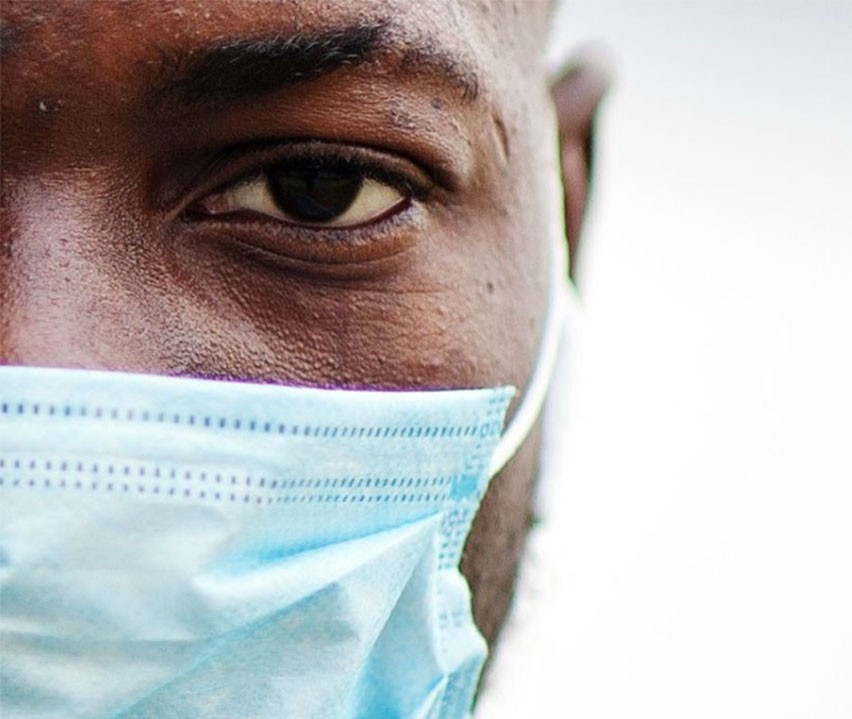with_mask: (4, 2, 616, 719)
